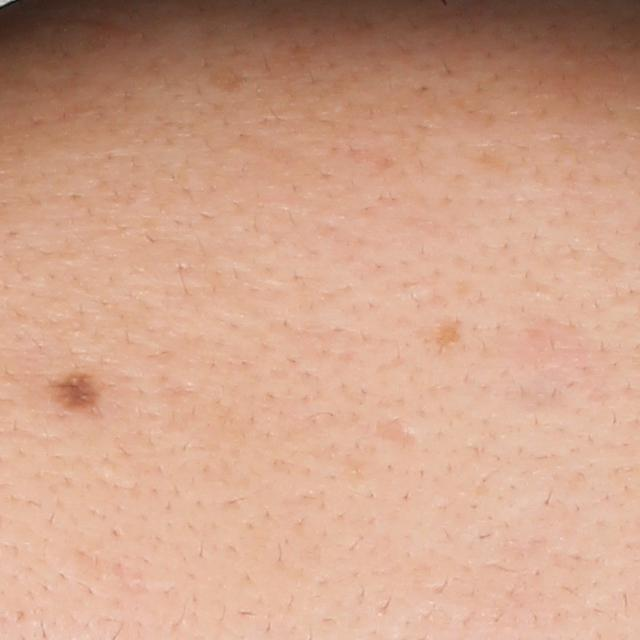atrophic_scar: (417, 315, 466, 352), (369, 417, 417, 450)
nevus: (52, 370, 100, 411)
